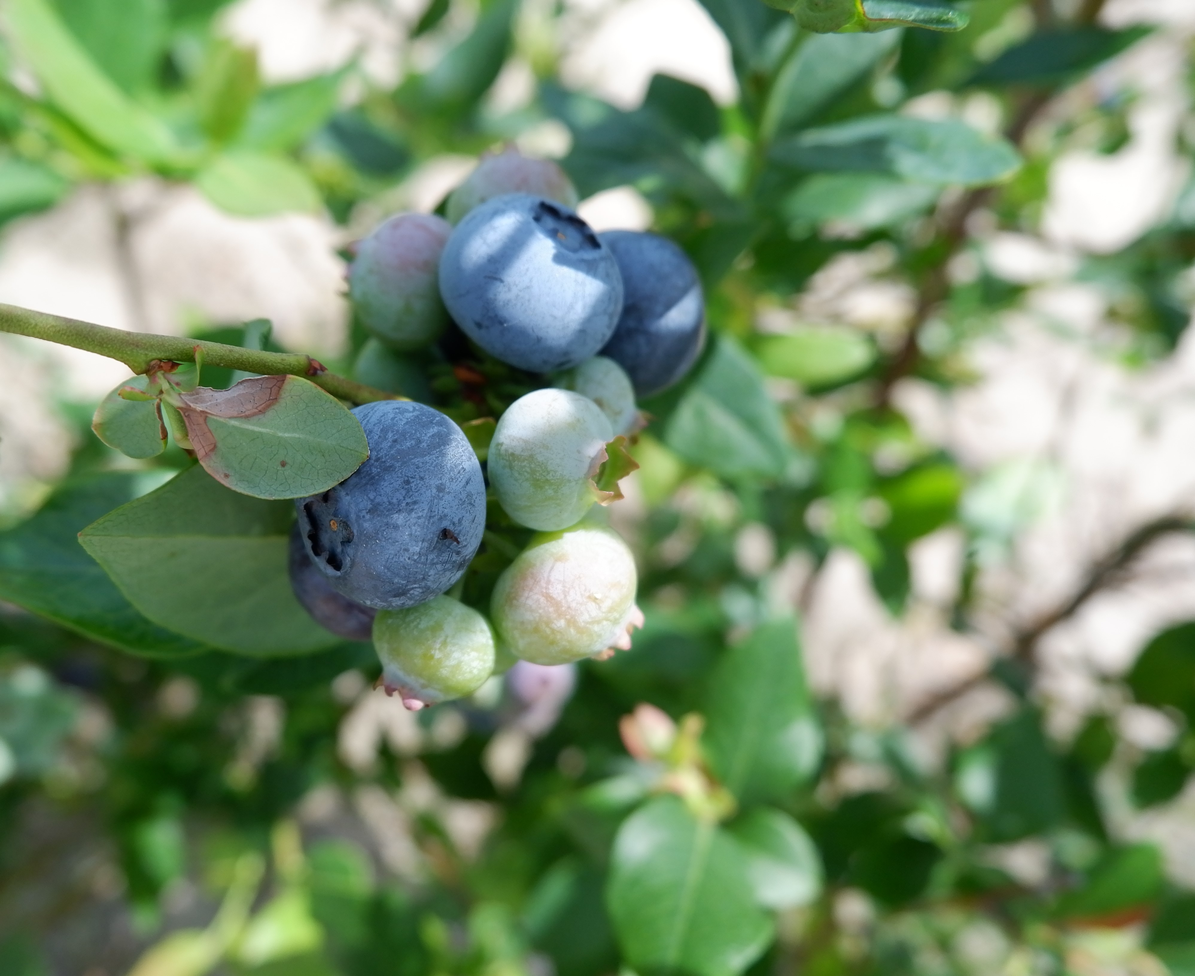Immature: (490, 392, 640, 526), (495, 533, 635, 663), (346, 214, 448, 348), (374, 601, 493, 707), (448, 142, 580, 229), (570, 357, 646, 437)
Mature: (294, 403, 482, 610), (440, 193, 620, 367), (598, 231, 703, 394), (289, 527, 375, 637)
